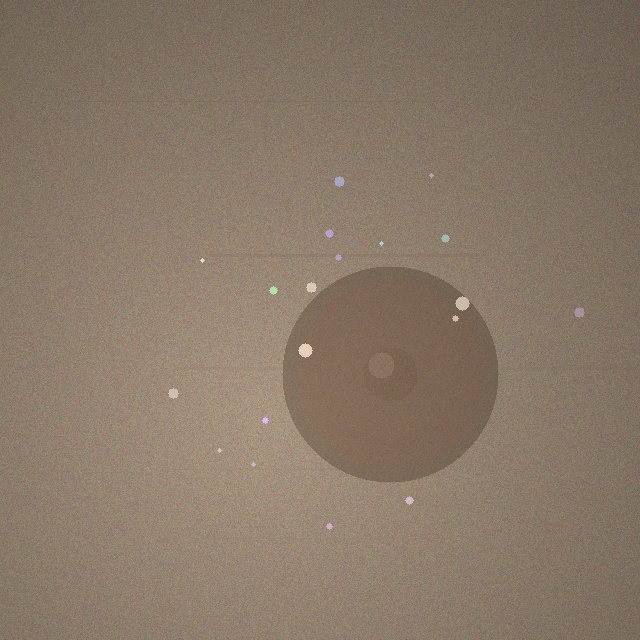overburn: (282, 266, 498, 482)
